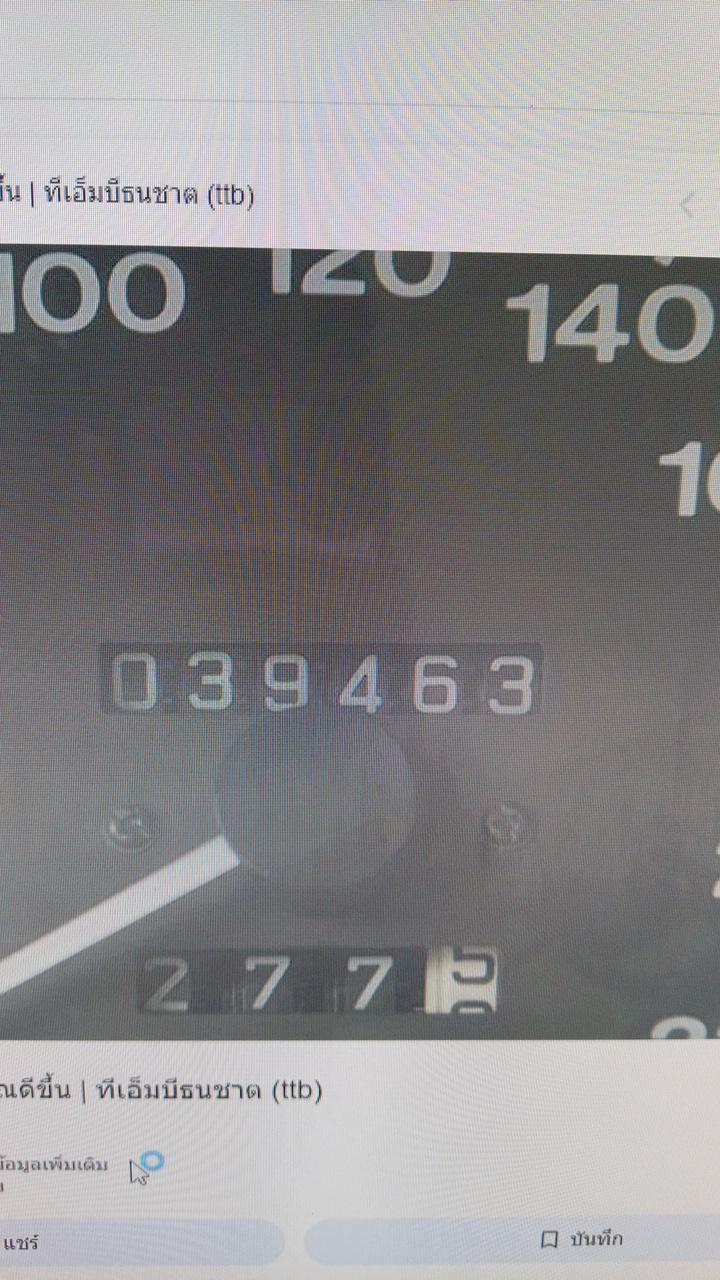0: (111, 651, 158, 714)
3: (185, 650, 235, 713), (487, 655, 534, 715)
4: (335, 652, 383, 716)
6: (411, 654, 460, 715)
9: (261, 651, 309, 714)
odometer: (95, 636, 546, 724)
